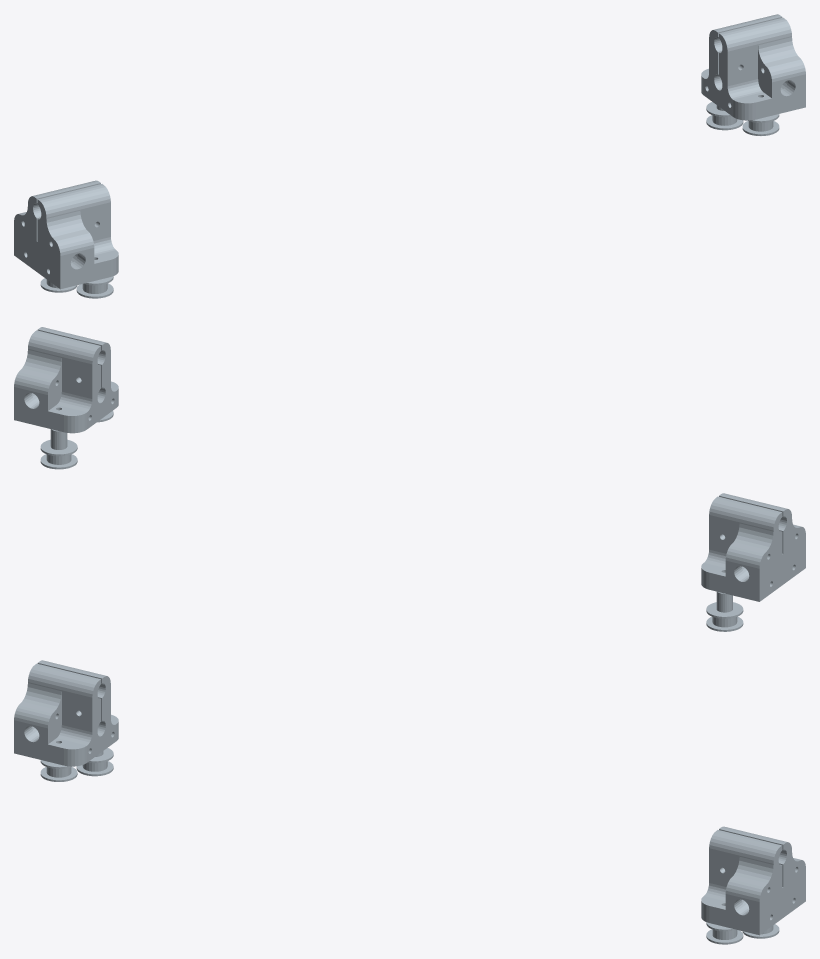
File: corexy_gantry.glb
3 renders of one model, top to bottom at view 1: azimuth 30°, elevation 25°; view 2: azimuth 150°, elevation 25°; view 3: azimuth 330°, elevation 25°, orthographic.
Visible parts, largest first — view 1: CoreXYGantry; view 2: CoreXYGantry; view 3: CoreXYGantry.
Boxes of the visible parts, bbox=[...] form: CoreXYGantry: bbox=[14, 14, 805, 298]; CoreXYGantry: bbox=[14, 327, 805, 631]; CoreXYGantry: bbox=[14, 660, 805, 944].
Bounding box in the file's own units: 8.15 × 1.14 × 1.03.
